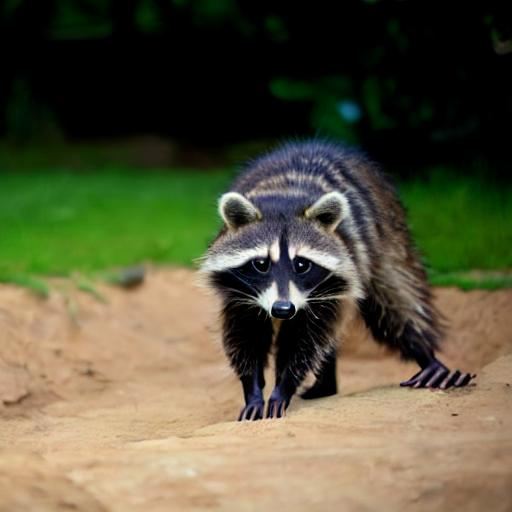raccoon: (189, 132, 452, 364)
